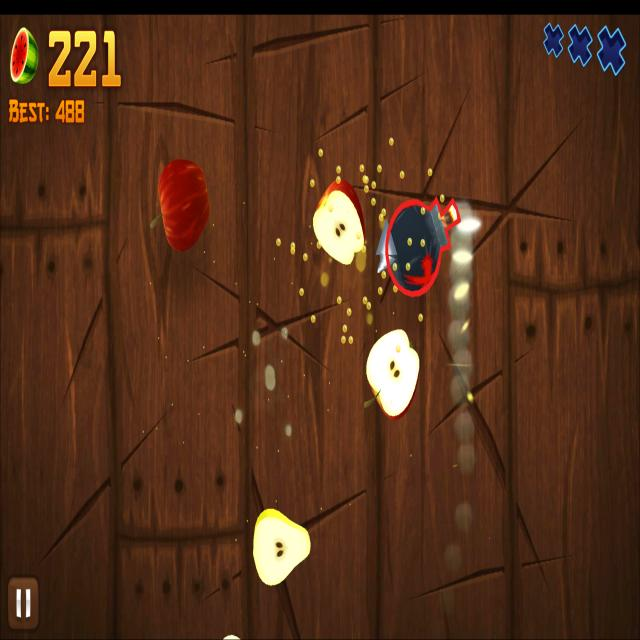bomb: (385, 196, 462, 297)
fruit: (158, 158, 211, 252)
